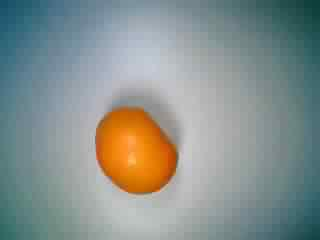orange: (85, 103, 180, 197)
